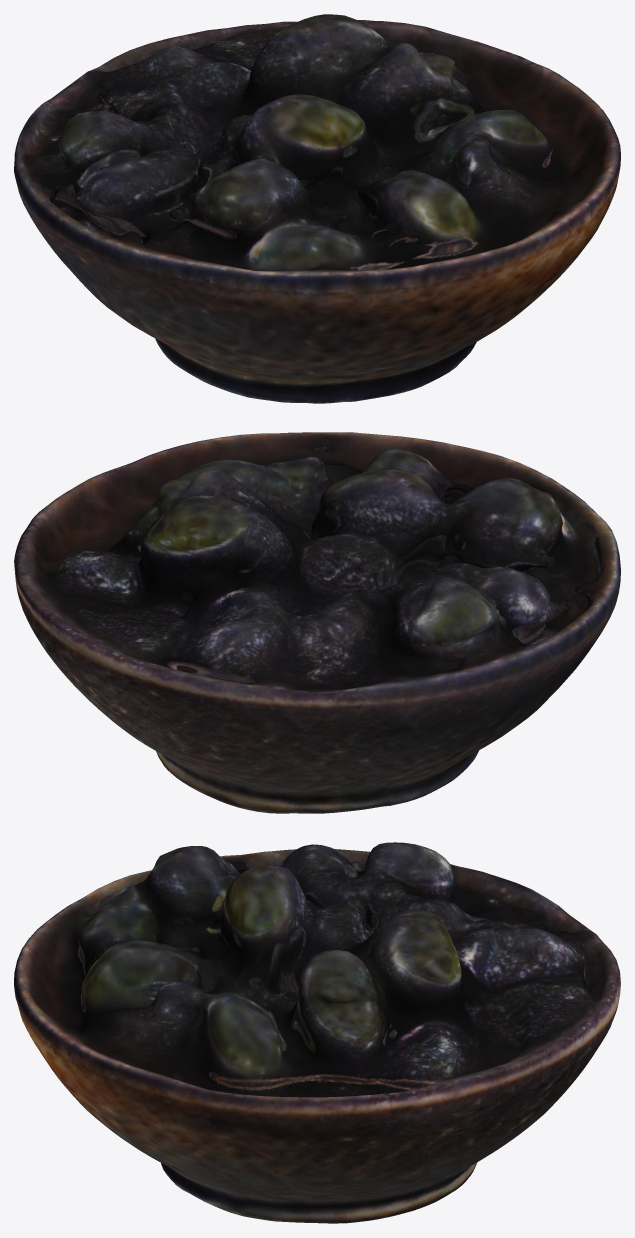
Rendered from Olive.fbx.
The picture shows the model from 3 angles, top to bottom: view 1: azimuth 30°, elevation 25°; view 2: azimuth 150°, elevation 25°; view 3: azimuth 270°, elevation 25°; orthographic projection.
Visible parts, largest first — view 1: mesh; view 2: mesh; view 3: mesh.
Part boxes in pixels (x1,y1,x2,y2): mesh: (14,14,620,403); mesh: (14,432,620,813); mesh: (14,842,620,1223).
Bounding box in the file's own units: 99.01 × 48.9 × 99.89.
